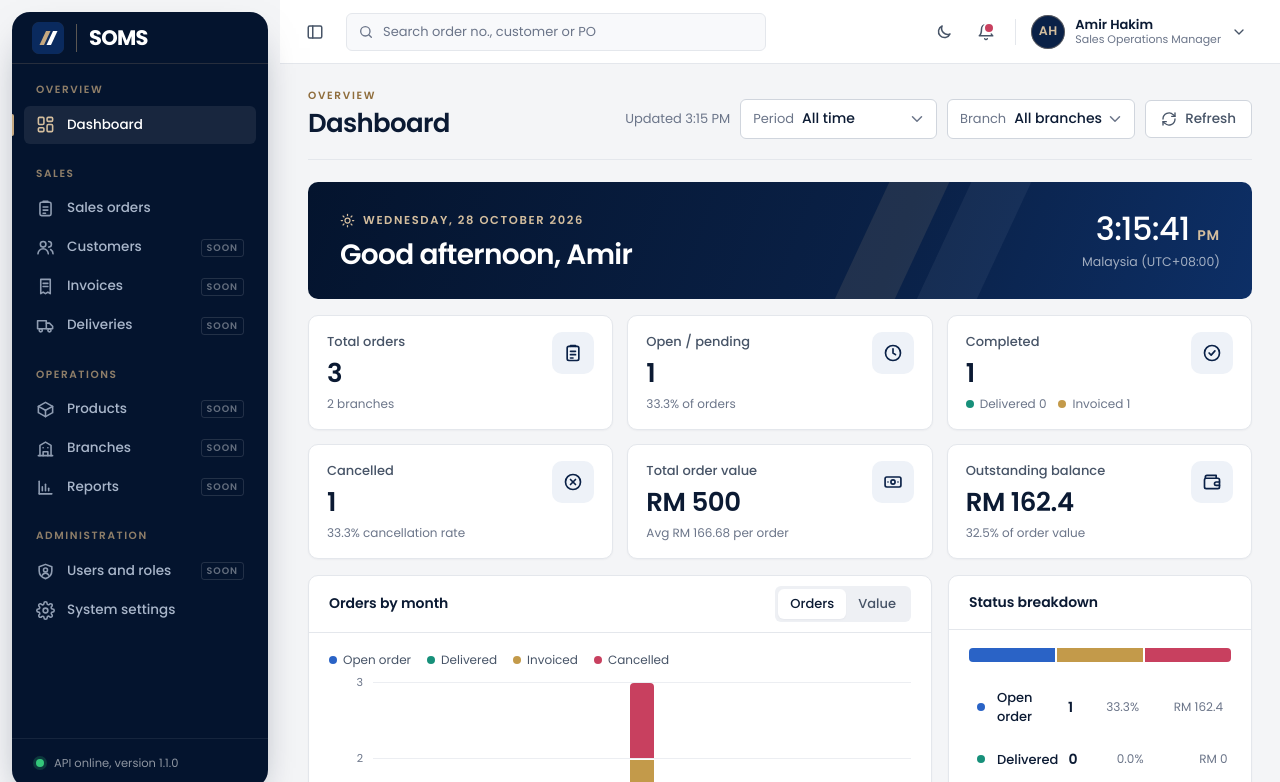
it: Public pages and sign in › signs out from the account menu
Click the button with aria-label "Account menu".
click(1141, 32)  # box [1026,10,1256,54]
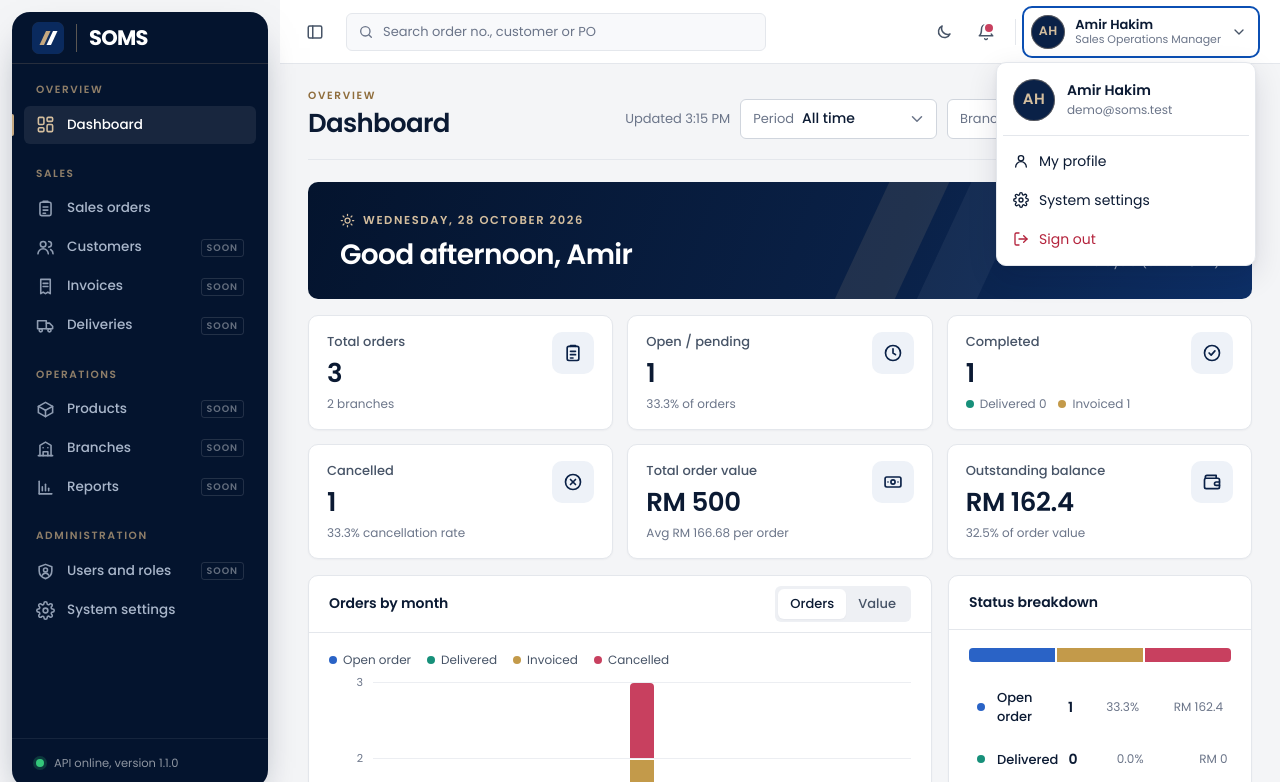
Click the button "Sign out".
click(1126, 239)  # box [1003,220,1249,258]
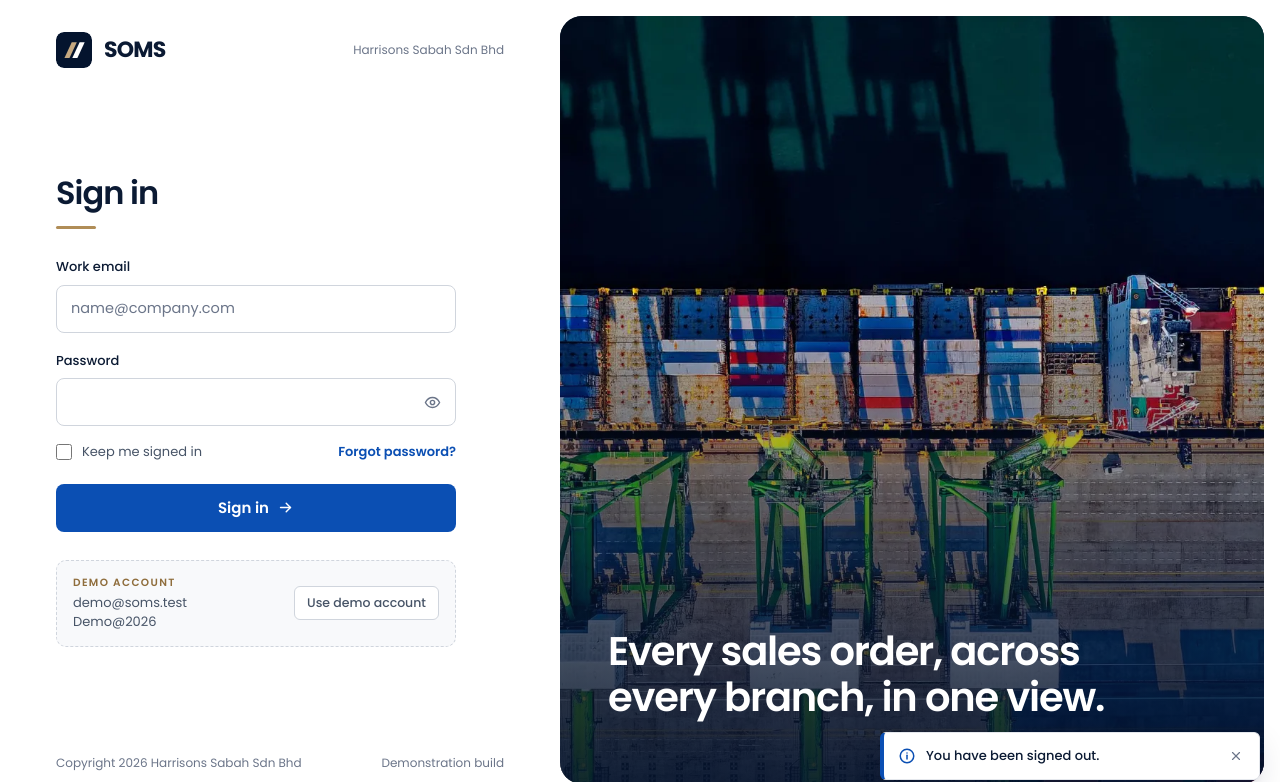
Result: the heading "Sign in" is shown at [56,170,158,216]
